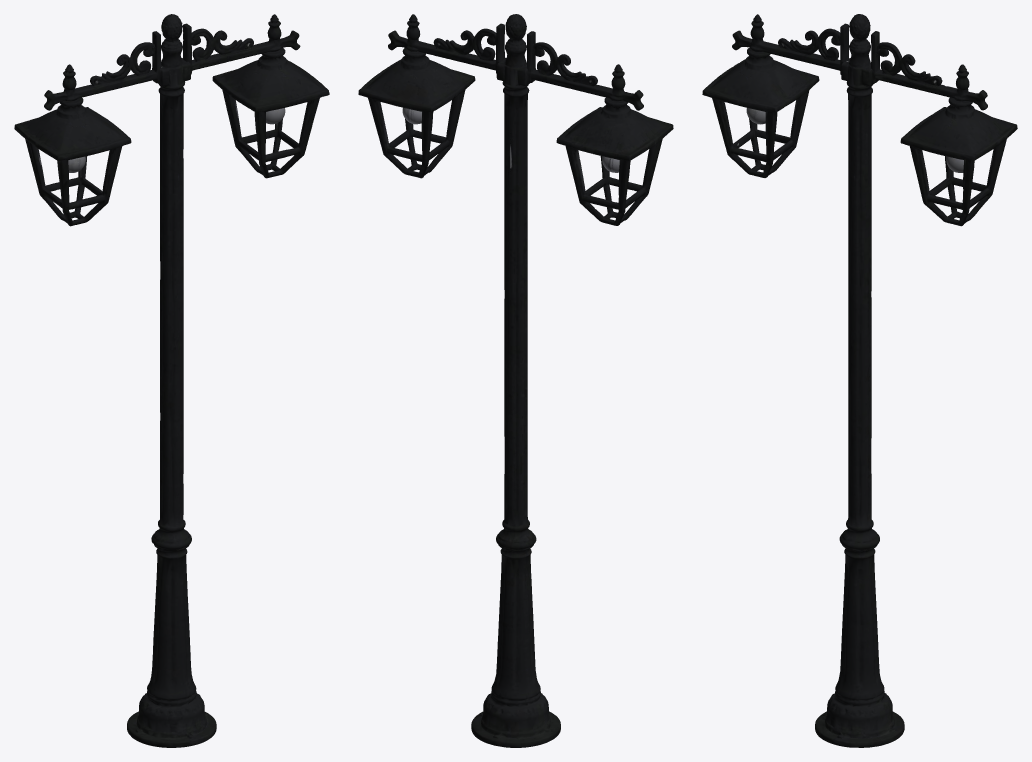
The model's file is ndricues-hero-left.glb.
3 renders of one model, left to right at view 1: azimuth 30°, elevation 25°; view 2: azimuth 150°, elevation 25°; view 3: azimuth 330°, elevation 25°, orthographic.
Size of the model in its own units: 0.7701 by 1.9 by 0.2275.
Materials: 1 (1 with a texture image).
